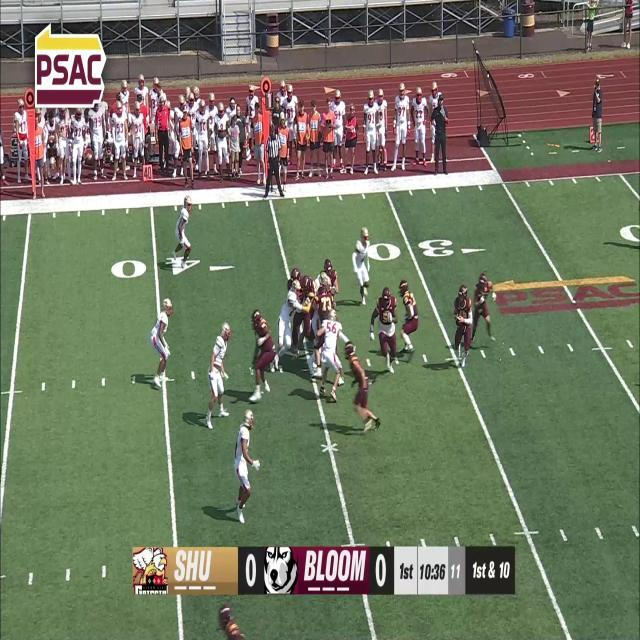football: (455, 312, 463, 328)
